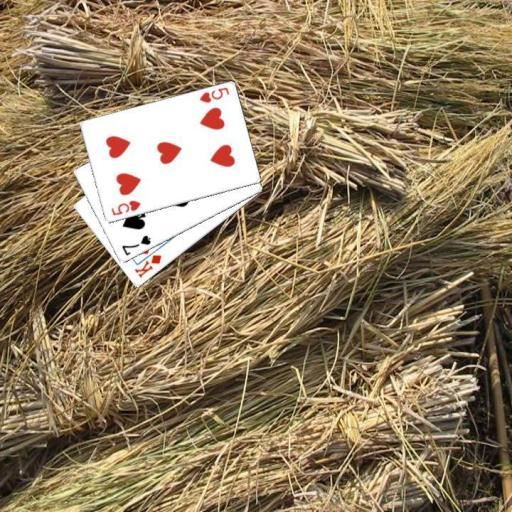5H: (197, 85, 231, 105), (108, 198, 142, 217)
7S: (119, 232, 152, 257)
KD: (132, 252, 164, 279)
